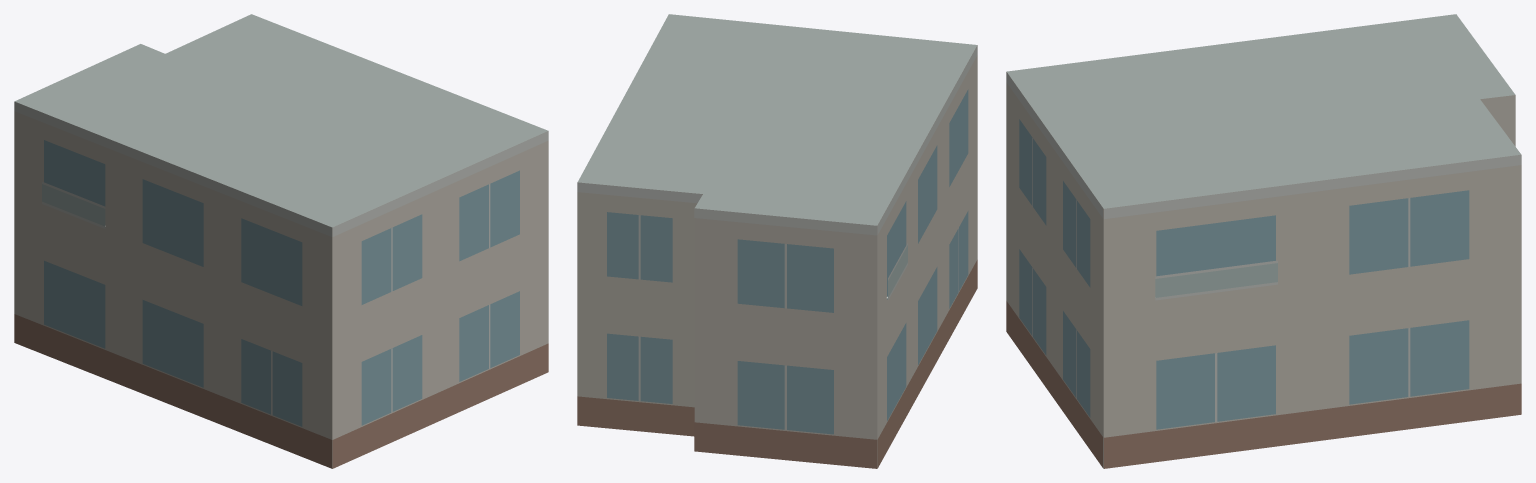
Rendered from survey-upis-32685162.glb.
The picture shows the model from 3 angles, left to right: view 1: azimuth 30°, elevation 25°; view 2: azimuth 150°, elevation 25°; view 3: azimuth 270°, elevation 25°; orthographic projection. The views are drawn at different scales.
Visible parts, largest first — view 1: survey-upis-32685162.tmp; view 2: survey-upis-32685162.tmp; view 3: survey-upis-32685162.tmp.
Part boxes in pixels (<box>): survey-upis-32685162.tmp: <box>14,14,548,468</box>; survey-upis-32685162.tmp: <box>577,14,977,468</box>; survey-upis-32685162.tmp: <box>1006,14,1521,468</box>.
Size of the model in its own units: 9.82 by 6.1 by 10.96.
